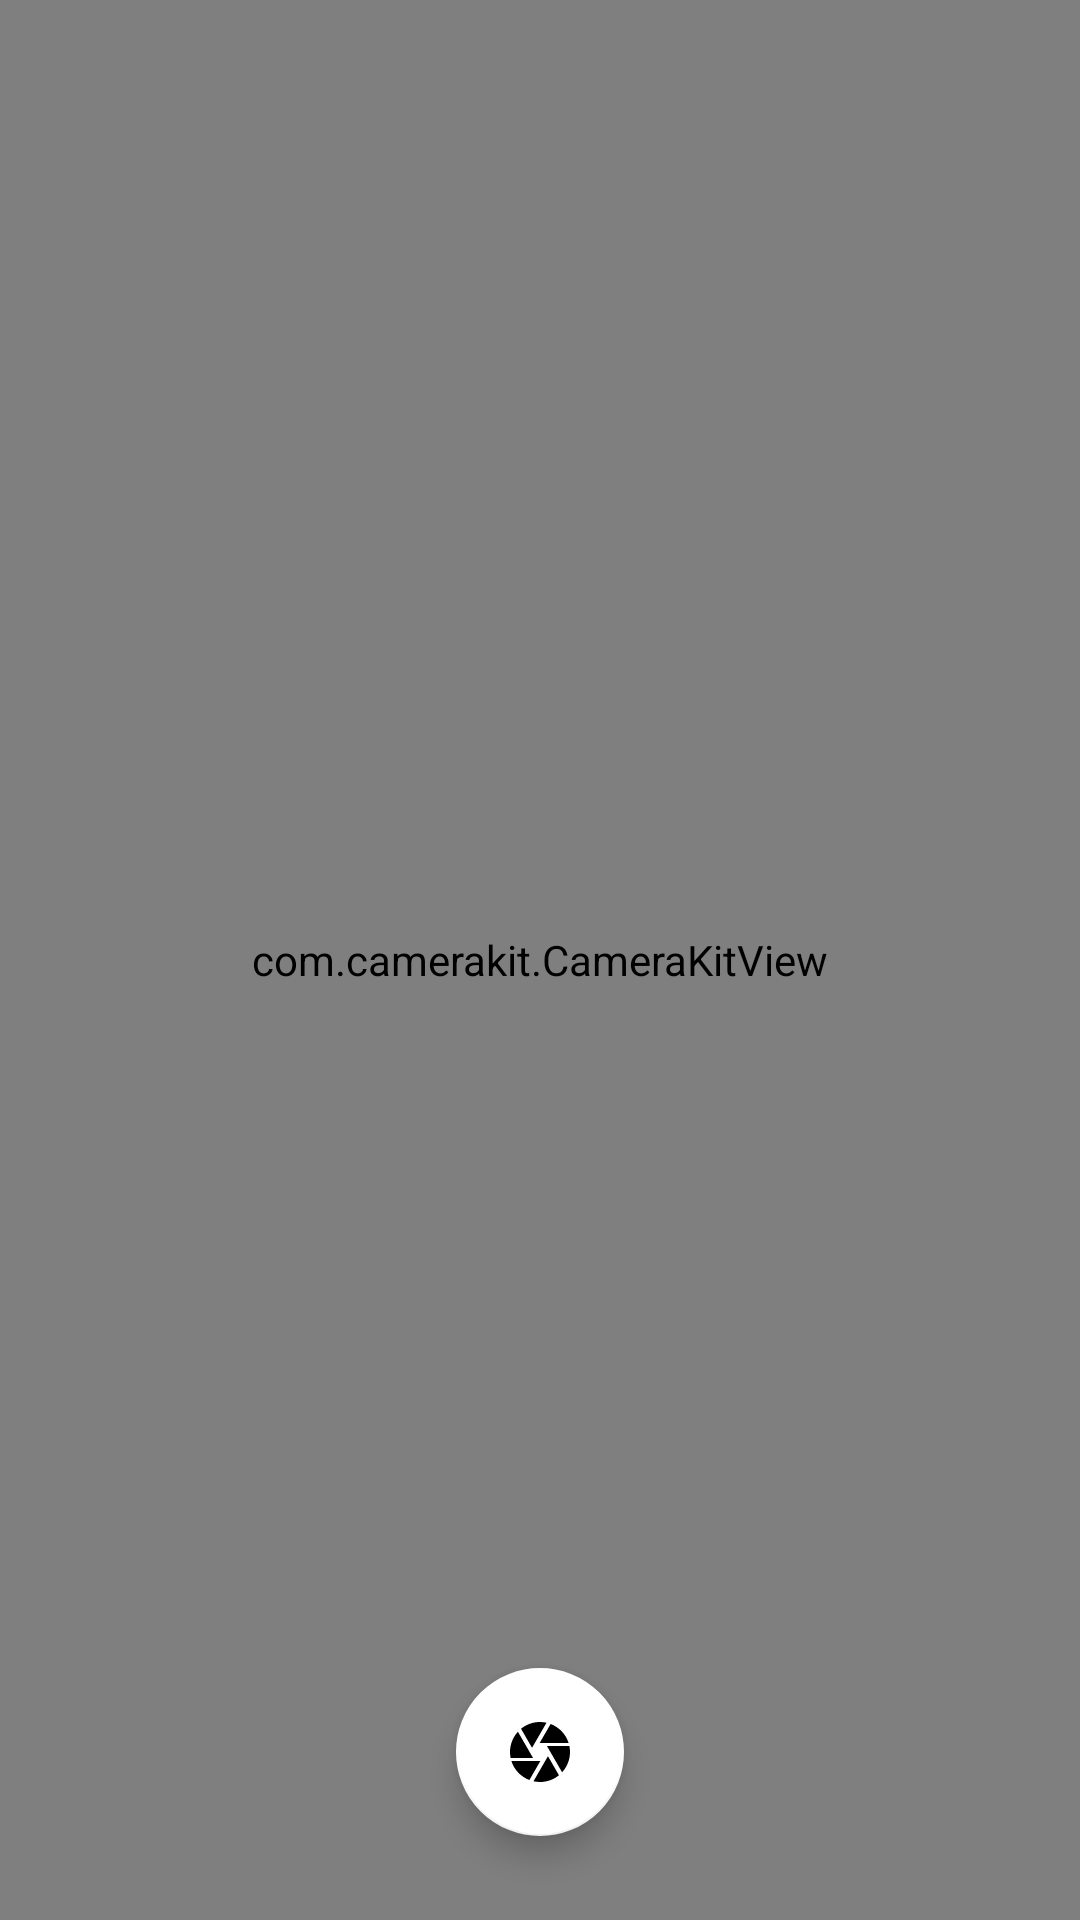

Screen size 1080×1920. Icon name, then its center in pixels as (x=x, y=y):
click: (x=540, y=1752)
